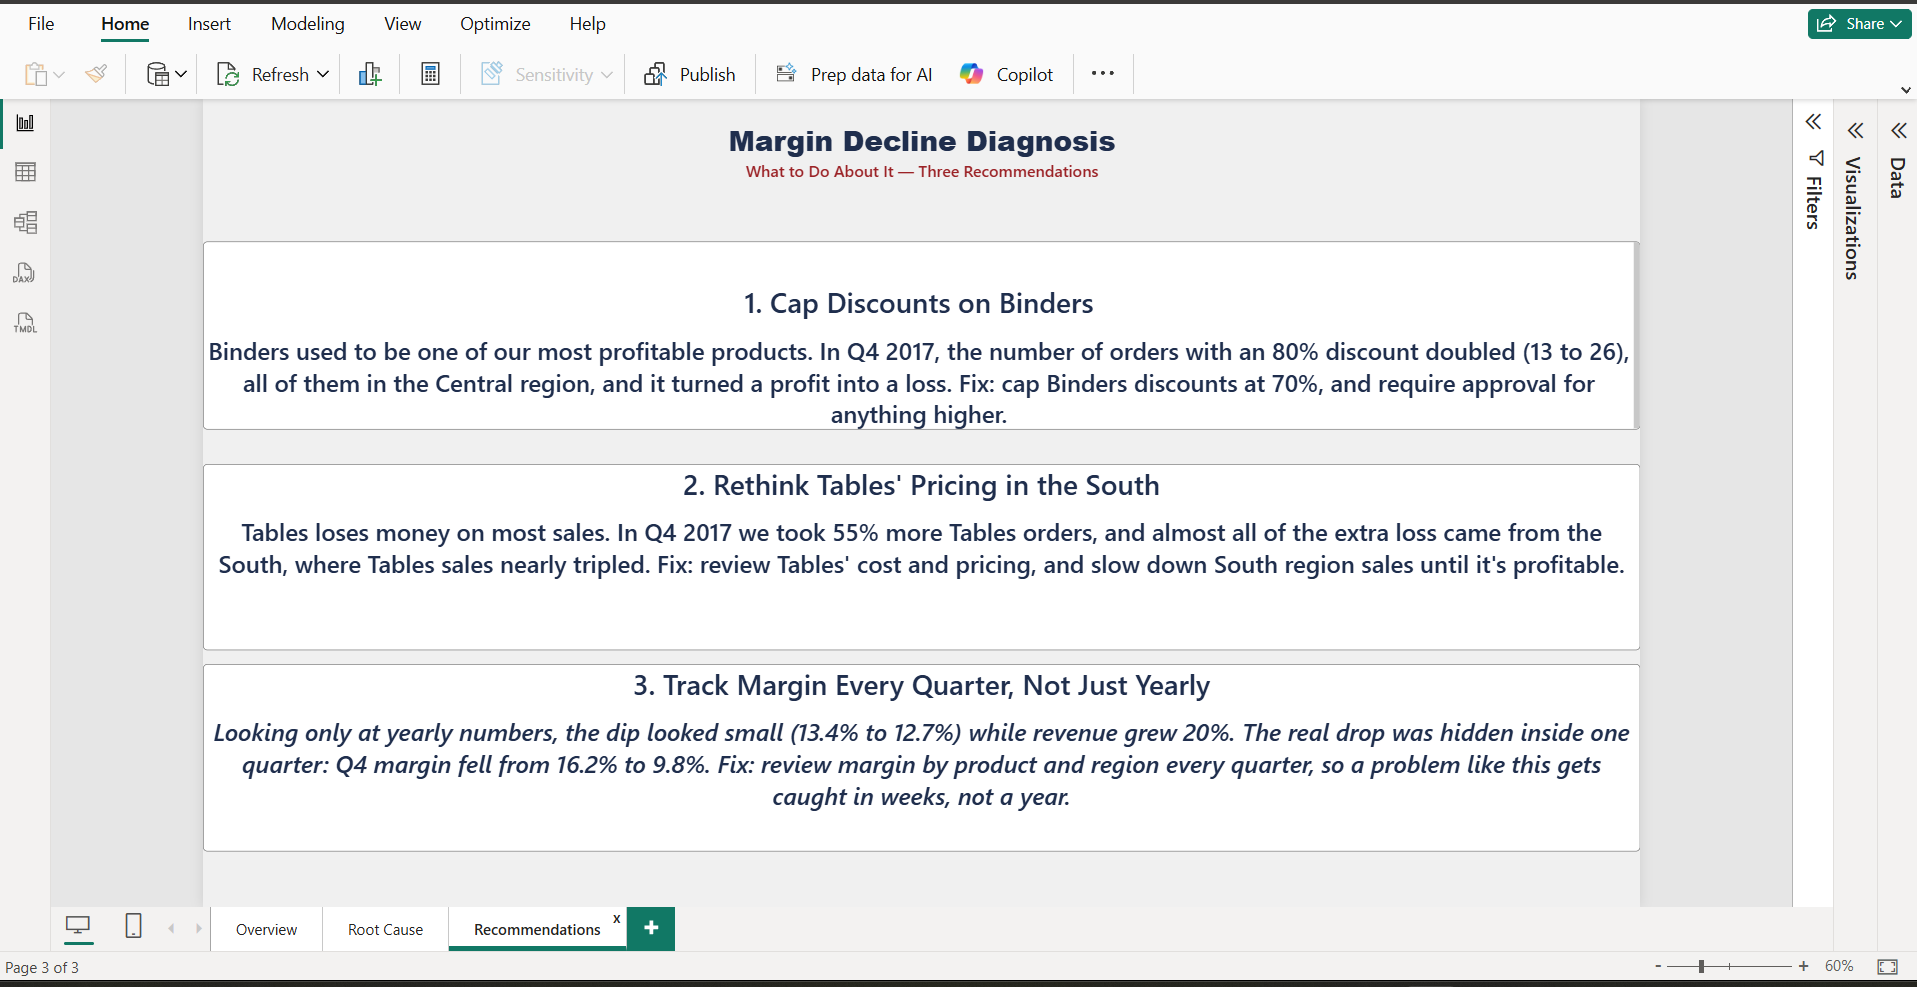

What the dashboard file says about the page in this screenshot:
{"tool":"powerbi","page":{"name":"Recommendations","canvas":[1920,1080],"ordinal":2},"visuals":[{"type":"textbox","box":[318.5,29,1283,161.1],"z":0},{"type":"textbox","box":[0,190,1920.1,251.5],"z":1000},{"type":"textbox","box":[0,487.6,1920.2,248.8],"z":2000},{"type":"textbox","box":[0,754.7,1920.2,250.5],"z":3000}]}

Visuals, with their boxes on the page's 1920x1080 design canvas (x1, y1, x2, y2). These are canvas units, not pixel positions in the 1917x987 screenshot, which may show the page scaled, cropped or inside an application window:
textbox: (318, 29, 1602, 190)
textbox: (0, 190, 1920, 442)
textbox: (0, 488, 1920, 736)
textbox: (0, 755, 1920, 1005)
